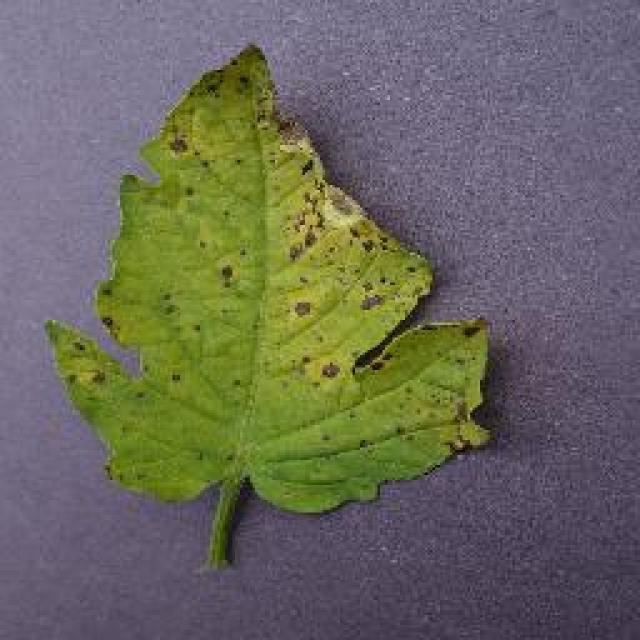Tomato___Septoria_leaf_spot: (48, 45, 488, 562)
